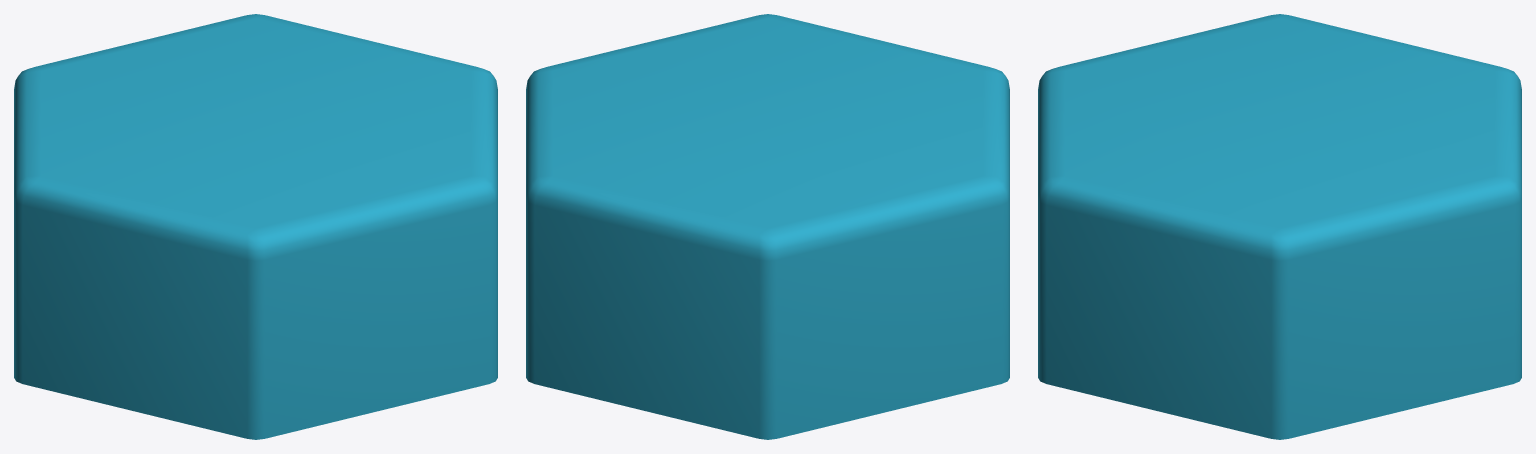
The model's file is Tile_Water.fbx.
3 views of the same model, side by side, from view 1: azimuth 30°, elevation 25°; view 2: azimuth 150°, elevation 25°; view 3: azimuth 270°, elevation 25° (orthographic).
Parts seen in each view (by area): view 1: Tile_Water; view 2: Tile_Water; view 3: Tile_Water.
Boxes of the visible parts, box(x1,y1,x2,y2) form: Tile_Water: box(14, 14, 497, 439); Tile_Water: box(526, 14, 1009, 439); Tile_Water: box(1038, 14, 1521, 439).
Bounding box in the file's own units: 9302 × 3698 × 8129.
